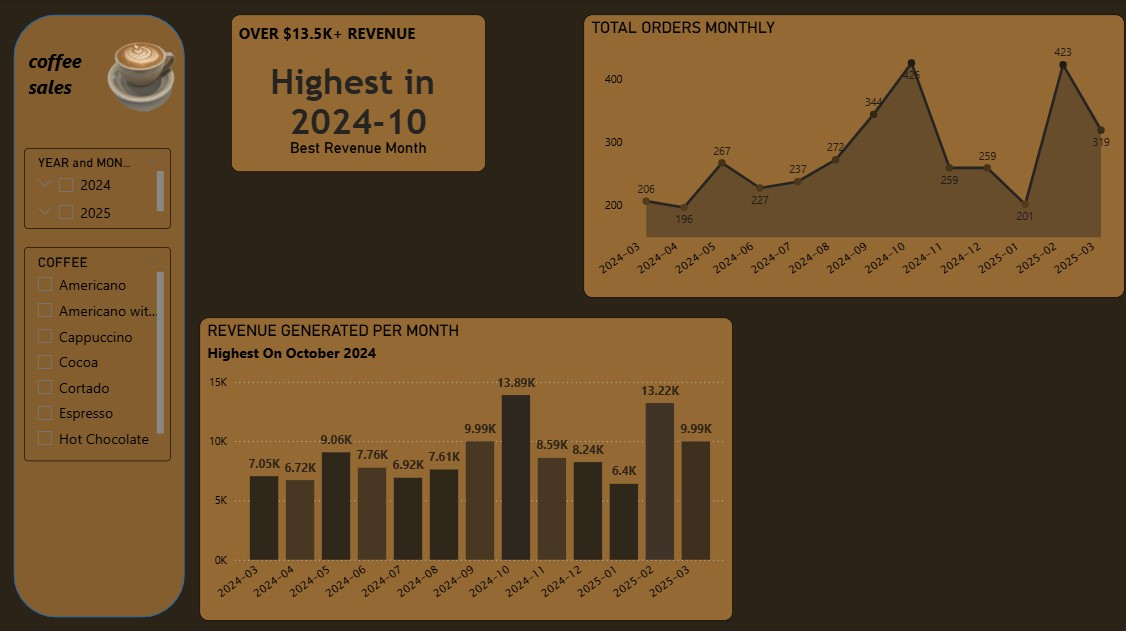

The dashboard page shown, as its layout file describes it:
{"tool":"powerbi","page":{"name":"Time Intelligence","canvas":[1280,720],"ordinal":2},"visuals":[{"type":"shape","box":[19,19,193.6,681.2],"z":0},{"type":"image","box":[96.8,0,133.1,127.9],"z":1000},{"type":"textbox","box":[30.1,50.1,86.9,80.2],"z":2000},{"type":"lineChart","title":"TOTAL ORDERS MONTHLY","fields":{"Y":["coffee.Total Orders"],"Category":["DateTable.Year-Month"]},"box":[662.7,18.6,611.1,320],"z":3000},{"type":"clusteredColumnChart","title":"REVENUE GENERATED PER MONTH ","fields":{"Category":["DateTable.Year-Month"],"Y":["coffee.Total Revenue"]},"box":[229.2,361.3,602.8,342.7],"z":4000},{"type":"slicer","fields":{"Values":["coffee.year","coffee.month"]},"box":[31.1,169.4,166,91.6],"z":5000},{"type":"slicer","fields":{"Values":["coffee.coffee_name"]},"box":[31.1,281.8,166,242.1],"z":6000},{"type":"card","fields":{"Values":["coffee.Best Revenue Month"]},"box":[264.4,18.6,288.1,177.9],"z":7000}]}

Visuals, with their boxes in screenshot pixels (x1, y1, x2, y2), scaled from the page's 1280x720 canvas onto the 1126x631 screenshot:
shape: [x1=17, y1=17, x2=187, y2=614]
image: [x1=85, y1=0, x2=202, y2=112]
textbox: [x1=26, y1=44, x2=103, y2=114]
"TOTAL ORDERS MONTHLY" lineChart: [x1=583, y1=16, x2=1121, y2=297]
"REVENUE GENERATED PER MONTH " clusteredColumnChart: [x1=202, y1=317, x2=732, y2=617]
slicer - coffee.year x coffee.month: [x1=27, y1=148, x2=173, y2=229]
slicer - coffee.coffee_name: [x1=27, y1=247, x2=173, y2=459]
card - coffee.Best Revenue Month: [x1=233, y1=16, x2=486, y2=172]
